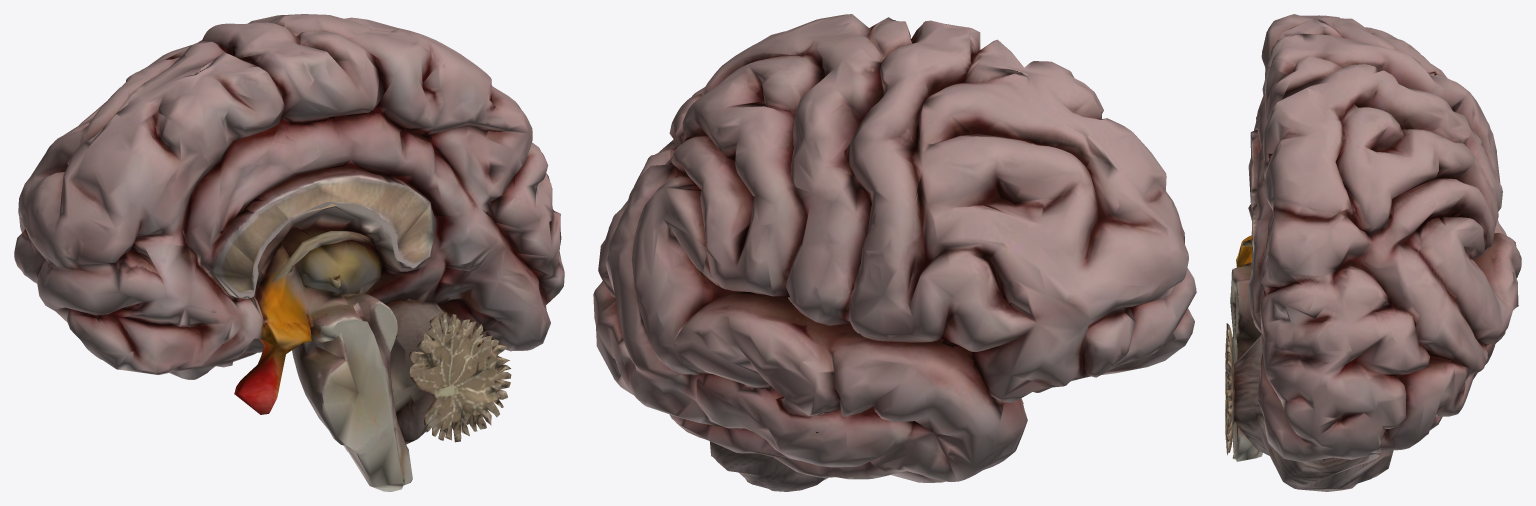
The model's file is brain.glb.
The picture shows the model from 3 angles, left to right: view 1: azimuth 30°, elevation 25°; view 2: azimuth 150°, elevation 25°; view 3: azimuth 270°, elevation 25°; orthographic projection. The views are drawn at different scales.
Visible parts, largest first — view 1: tripo_node_57b9c6f7-b45f-4511-bb46-aee62370ca26; view 2: tripo_node_57b9c6f7-b45f-4511-bb46-aee62370ca26; view 3: tripo_node_57b9c6f7-b45f-4511-bb46-aee62370ca26.
Boxes of the visible parts, x1,y1,x2,y2 form: tripo_node_57b9c6f7-b45f-4511-bb46-aee62370ca26: [14, 14, 564, 491]; tripo_node_57b9c6f7-b45f-4511-bb46-aee62370ca26: [593, 14, 1196, 491]; tripo_node_57b9c6f7-b45f-4511-bb46-aee62370ca26: [1225, 14, 1521, 491].
Bounding box in the file's own units: 0.9796 × 0.797 × 0.5567.
Materials: 1 (1 with a texture image).
